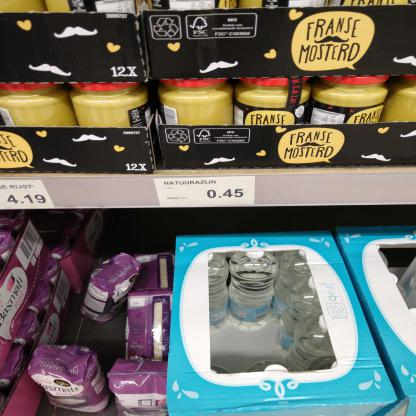prtg: (155, 177, 256, 208), (1, 182, 56, 210)
